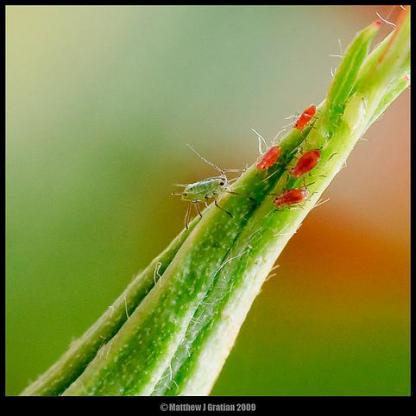aphid: (166, 151, 249, 226), (266, 185, 311, 213), (252, 143, 288, 177), (291, 145, 324, 181), (286, 106, 323, 133)
